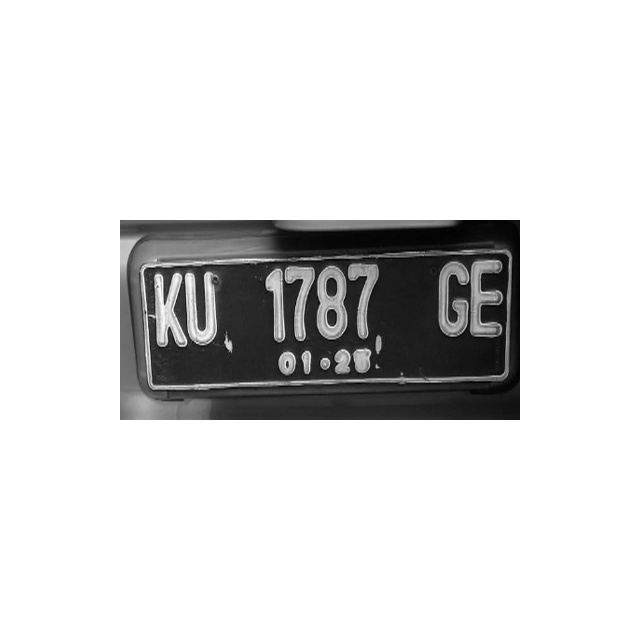contain: (438, 256, 473, 339), (154, 270, 190, 350), (251, 262, 286, 343), (470, 256, 504, 339), (185, 264, 219, 346), (347, 258, 380, 341), (315, 260, 348, 342), (281, 263, 314, 340)
